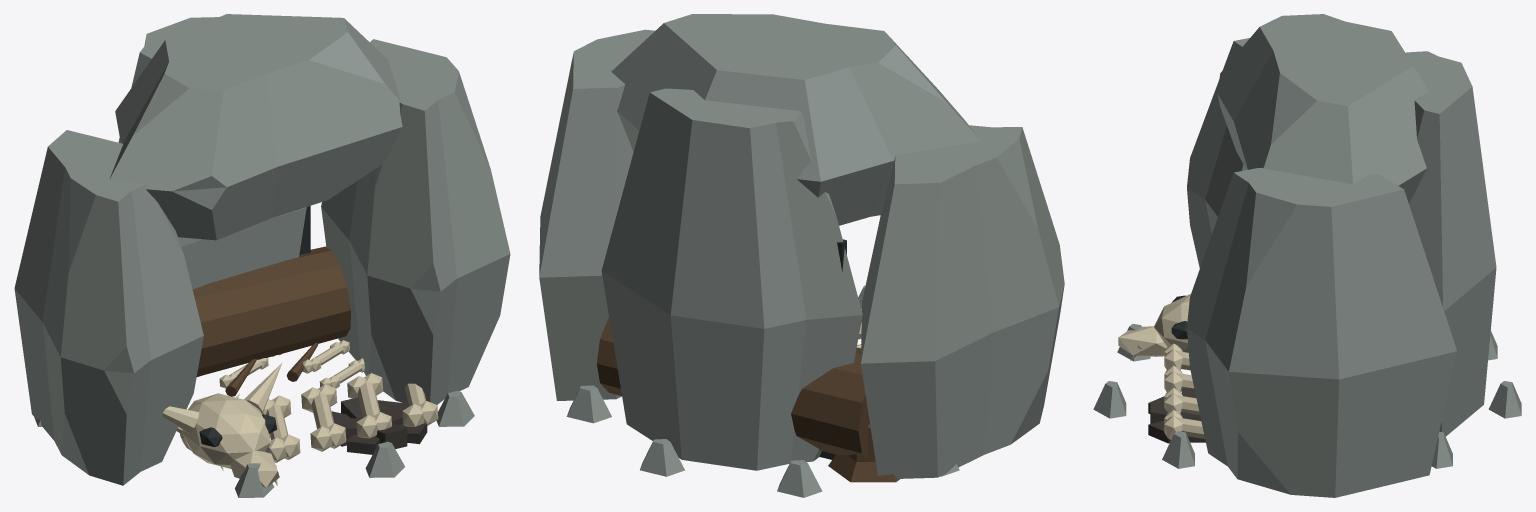
The model's file is vado_cubiles.glb.
3 renders of one model, left to right at view 1: azimuth 30°, elevation 25°; view 2: azimuth 150°, elevation 25°; view 3: azimuth 270°, elevation 25°, orthographic. The views are drawn at different scales.
Parts seen in each view (by area): view 1: cubil_troll__rock_largeF.003, cubil_troll__rock_largeF, cubil_troll__rock_largeF.001, cubil_huargo__tronco_hueco, cubil_troll__rock_largeF.002, cubil_troll__craneo_animal, cubil_huargo__campfire_logs, cubil_huargo__rock_smallA.007, cubil_huargo__rock_smallA.008, cubil_troll__hocico, cubil_huargo__rock_smallA.006, cubil_troll__cuerno.001 (+3 smaller); view 2: cubil_troll__rock_largeF.002, cubil_troll__rock_largeF, cubil_troll__rock_largeF.003, cubil_troll__rock_largeF.001, cubil_huargo__tronco_hueco, cubil_huargo__stump_old, cubil_huargo__rock_smallA.001, cubil_huargo__rock_smallA.003, cubil_huargo__rock_smallA.002; view 3: cubil_troll__rock_largeF.001, cubil_troll__rock_largeF.003, cubil_troll__rock_largeF.002, cubil_troll__rock_largeF, cubil_troll__hocico, cubil_troll__craneo_animal, cubil_huargo__campfire_logs, cubil_huargo__rock_smallA.007, cubil_huargo__rock_smallA.002, cubil_huargo__rock_smallA.008, cubil_huargo__rock_smallA.001.
Boxes of the visible parts, x1,y1,x2,y2 form: cubil_troll__rock_largeF.003: [109, 14, 402, 240]; cubil_troll__rock_largeF: [14, 130, 203, 485]; cubil_troll__rock_largeF.001: [321, 39, 510, 404]; cubil_huargo__tronco_hueco: [192, 246, 350, 376]; cubil_troll__rock_largeF.002: [118, 17, 306, 377]; cubil_troll__craneo_animal: [182, 393, 270, 468]; cubil_huargo__campfire_logs: [331, 397, 427, 454]; cubil_huargo__rock_smallA.007: [365, 441, 404, 477]; cubil_huargo__rock_smallA.008: [436, 390, 474, 426]; cubil_troll__hocico: [230, 451, 279, 487]; cubil_huargo__rock_smallA.006: [235, 463, 274, 497]; cubil_troll__cuerno.001: [244, 362, 282, 413]; cubil_troll__rock_largeF.002: [601, 88, 862, 470]; cubil_troll__rock_largeF: [861, 125, 1064, 478]; cubil_troll__rock_largeF.003: [611, 14, 981, 225]; cubil_troll__rock_largeF.001: [539, 29, 654, 400]; cubil_huargo__tronco_hueco: [596, 317, 868, 459]; cubil_huargo__stump_old: [828, 416, 899, 482]; cubil_huargo__rock_smallA.001: [566, 385, 611, 423]; cubil_huargo__rock_smallA.003: [777, 460, 822, 497]; cubil_huargo__rock_smallA.002: [640, 439, 684, 476]; cubil_troll__rock_largeF.001: [1187, 168, 1457, 497]; cubil_troll__rock_largeF.003: [1217, 14, 1428, 203]; cubil_troll__rock_largeF.002: [1406, 51, 1496, 436]; cubil_troll__rock_largeF: [1187, 38, 1249, 268]; cubil_troll__hocico: [1118, 326, 1167, 356]; cubil_troll__craneo_animal: [1154, 294, 1190, 352]; cubil_huargo__campfire_logs: [1148, 388, 1205, 443]; cubil_huargo__rock_smallA.007: [1093, 381, 1126, 418]; cubil_huargo__rock_smallA.002: [1488, 381, 1521, 418]; cubil_huargo__rock_smallA.008: [1162, 431, 1194, 468]; cubil_huargo__rock_smallA.001: [1431, 431, 1452, 468].
Bounding box in the file's own units: 5.9 × 4.33 × 4.91.
